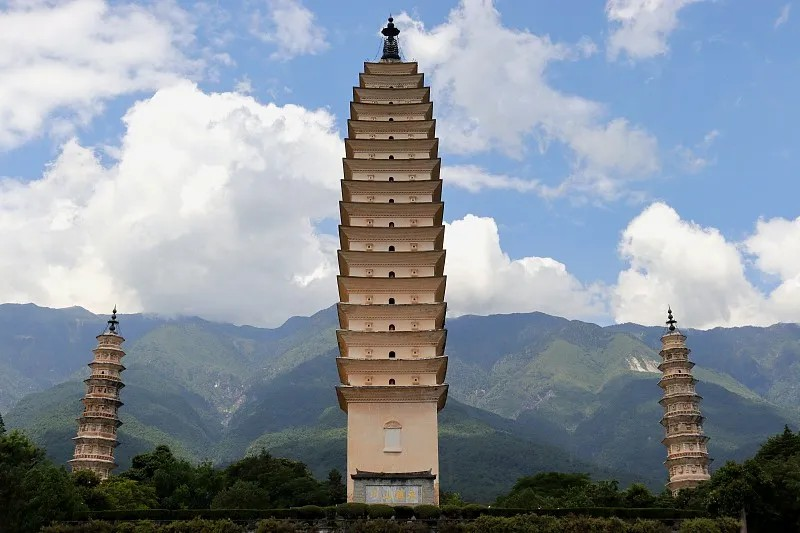ThreePagoda: (335, 13, 450, 508)
